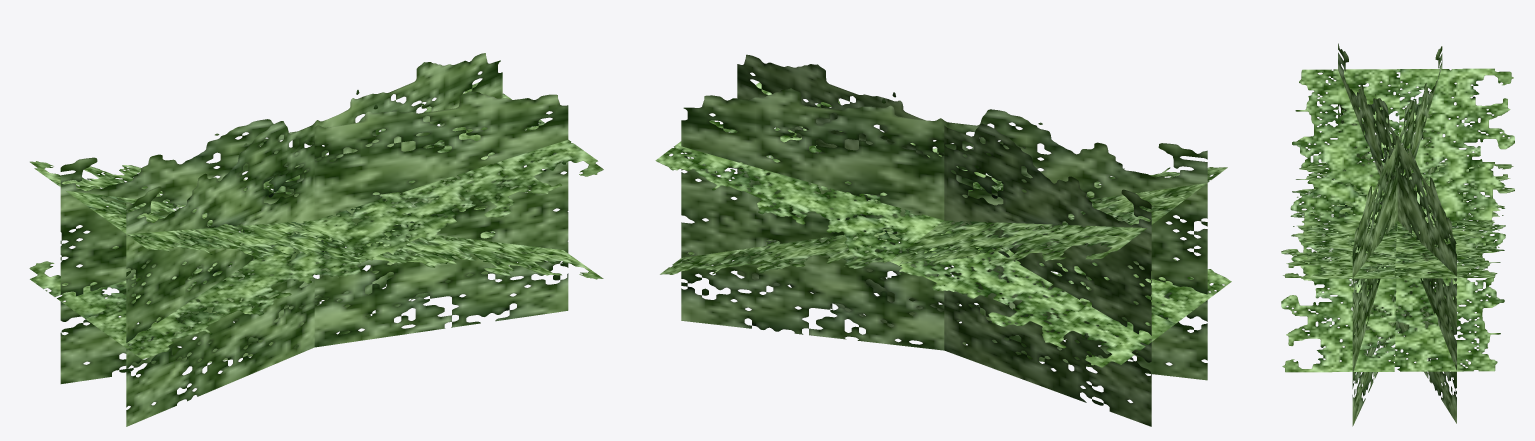
File: bush_long_full_overgrown_summer.fbx
The picture shows the model from 3 angles, left to right: view 1: azimuth 30°, elevation 25°; view 2: azimuth 150°, elevation 25°; view 3: azimuth 270°, elevation 25°; orthographic projection. The views are drawn at different scales.
Visible parts, largest first — view 1: bush_long_full_overgrown_summer; view 2: bush_long_full_overgrown_summer; view 3: bush_long_full_overgrown_summer.
Boxes of the visible parts, x1=… form: bush_long_full_overgrown_summer: x1=29, y1=53, x2=603, y2=426; bush_long_full_overgrown_summer: x1=655, y1=54, x2=1231, y2=426; bush_long_full_overgrown_summer: x1=1281, y1=43, x2=1514, y2=426.
Bounding box in the file's own units: 200 × 106 × 108.
Materials: 1 (1 with a texture image).
